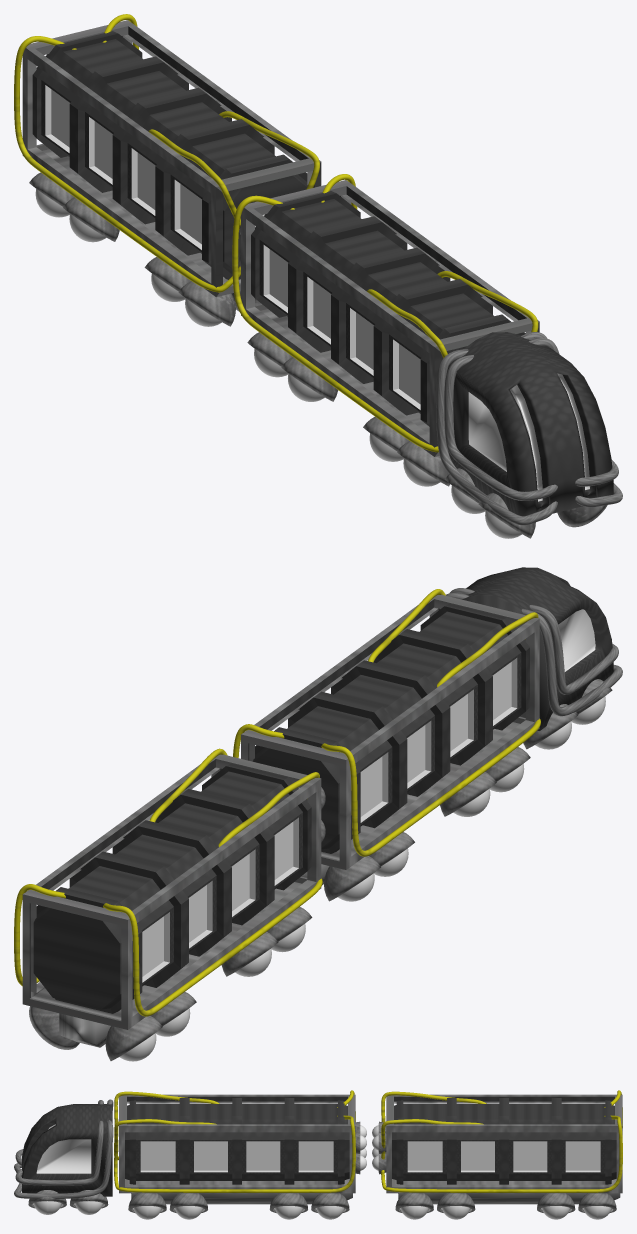
File: Truck 11.fbx
3 views of the same model, one above another, from view 1: azimuth 30°, elevation 25°; view 2: azimuth 150°, elevation 25°; view 3: azimuth 270°, elevation 25° (orthographic). The views are drawn at different scales.
Parts seen in each view (by area): view 1: Cube.003; view 2: Cube.003; view 3: Cube.003.
Boxes of the visible parts, box(x1,y1,x2,y2) form: Cube.003: box(14, 14, 622, 538); Cube.003: box(14, 567, 622, 1061); Cube.003: box(14, 1090, 622, 1219).
Size of the model in its own units: 527 by 686 by 3651.
